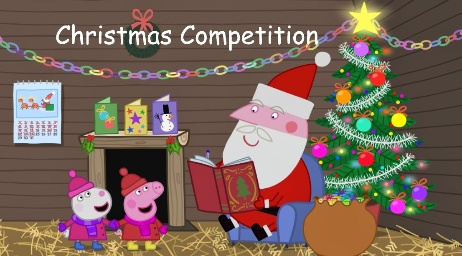Peppa: (113, 169, 170, 251)
